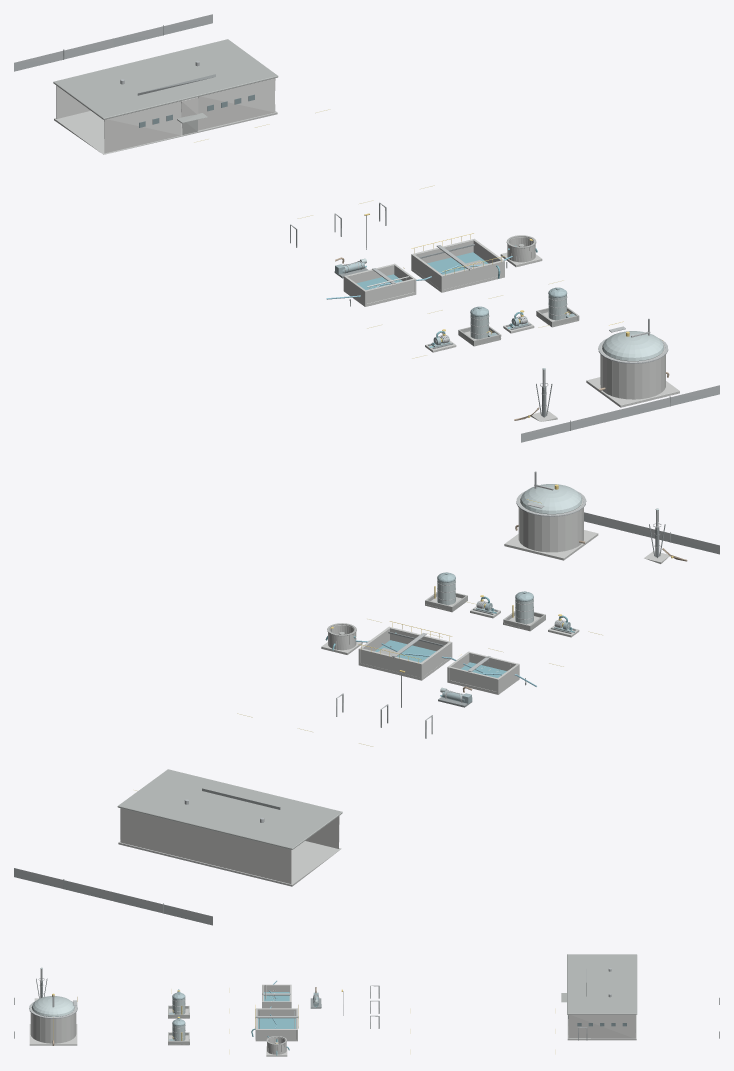
3 renders of one model, top to bottom at view 1: azimuth 30°, elevation 25°; view 2: azimuth 150°, elevation 25°; view 3: azimuth 270°, elevation 25°, orthographic. The views are drawn at different scales.
Visible parts, largest first — view 1: render-batch-7, render-batch-14, render-batch-15, render-batch-9, render-batch-12, render-batch-13, render-batch-11, render-batch-1, render-batch-10, render-batch-5; view 2: render-batch-14, render-batch-7, render-batch-15, render-batch-9, render-batch-12, render-batch-13, render-batch-11, render-batch-1, render-batch-10, render-batch-5; view 3: render-batch-7, render-batch-14, render-batch-15, render-batch-12, render-batch-1, render-batch-11, render-batch-10, render-batch-3, render-batch-5, render-batch-13, render-batch-4.
Boxes of the visible parts, x1,y1,x2,y2 form: render-batch-7: (53,39,278,123); render-batch-14: (343,237,679,421); render-batch-15: (56,78,275,153); render-batch-9: (14,14,719,442); render-batch-12: (360,258,664,369); render-batch-13: (54,101,277,154); render-batch-11: (343,241,668,407); render-batch-1: (357,245,537,347); render-batch-10: (458,235,579,346); render-batch-5: (335,261,575,347); render-batch-14: (321,497,669,694); render-batch-7: (117,769,342,849); render-batch-15: (120,808,339,883); render-batch-9: (14,512,719,925); render-batch-12: (437,484,658,692); render-batch-13: (118,841,341,886); render-batch-11: (331,471,661,702); render-batch-1: (325,596,574,696); render-batch-10: (327,592,545,655); render-batch-5: (437,572,573,703); render-batch-7: (561,954,637,1014); render-batch-14: (29,984,297,1056); render-batch-15: (568,1014,635,1038); render-batch-12: (31,967,317,1040); render-batch-1: (178,989,316,1055); render-batch-11: (29,969,319,1038); render-batch-10: (168,1005,286,1045); render-batch-3: (36,978,321,1028); render-batch-5: (169,992,318,1040); render-batch-13: (567,1014,636,1040); render-batch-4: (14,969,719,1040).
Size of the model in its own units: 46.29 by 12.8 by 180.
